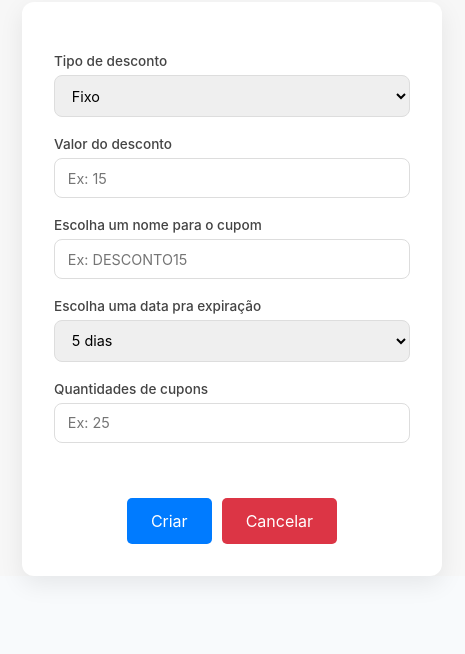
services › should return an error with status code 409
The width and height of the screenshot is (465, 654).
Type "DESCONTO15" into the field with placeholder "Ex: DESCONTO15" at coordinates (232, 259), box [54,239,410,279]
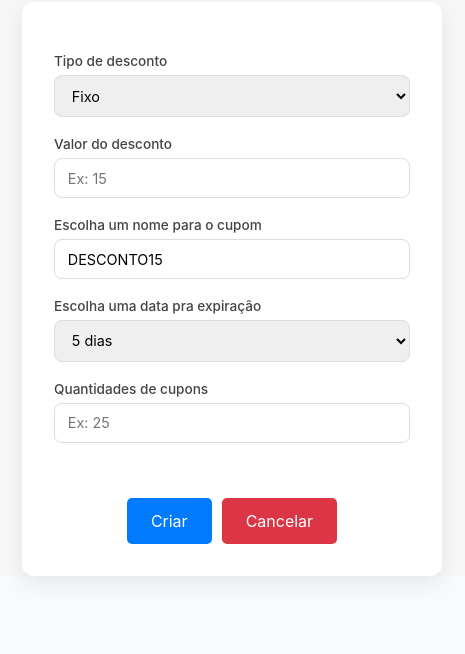
Type "15" into the number field with placeholder "Ex: 15" at coordinates (232, 178), box [54,158,410,198]
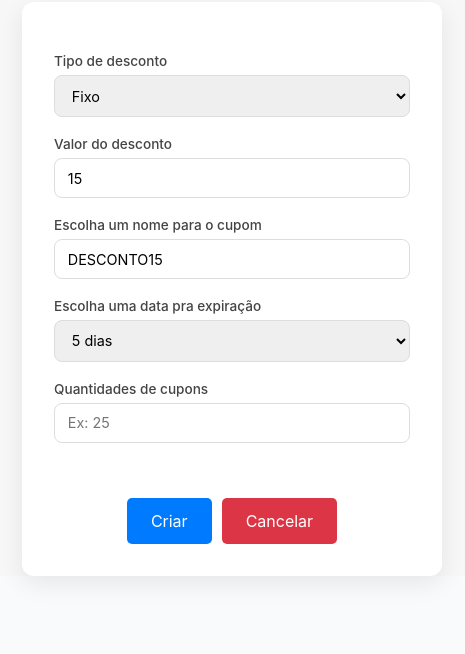
Type "35" into the number field with placeholder "Ex: 25" at coordinates (232, 423), box [54,403,410,443]
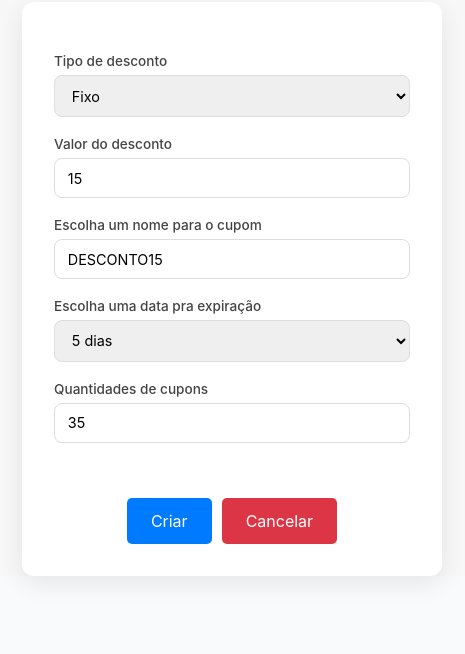
Select "Em porcentagem" in the dropdown with test id "select" below "Tipo de desconto" at coordinates (232, 96), box [54,75,410,117]
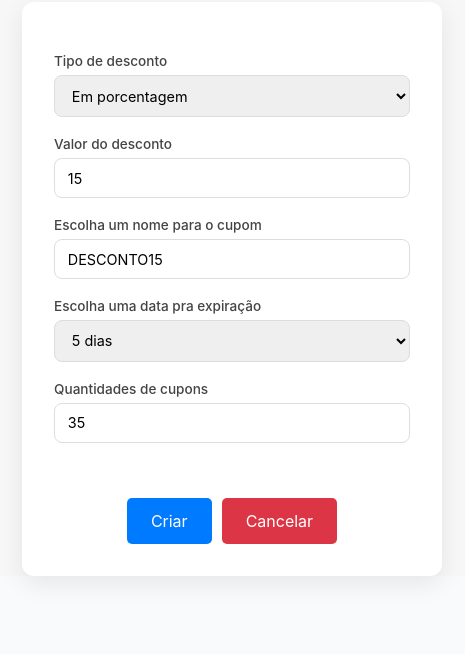
Select "5 dias" in the dropdown with test id "select" below "Escolha uma data pra expiração" at coordinates (232, 341), box [54,320,410,362]
Click the button "Criar" at coordinates (169, 521), box [127,498,212,544]
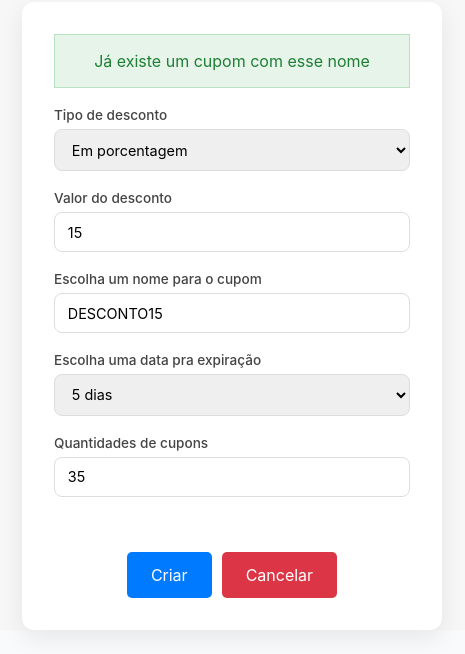
Check: the text "Já existe um cupom com esse nome" is shown, box [94,51,370,71]
